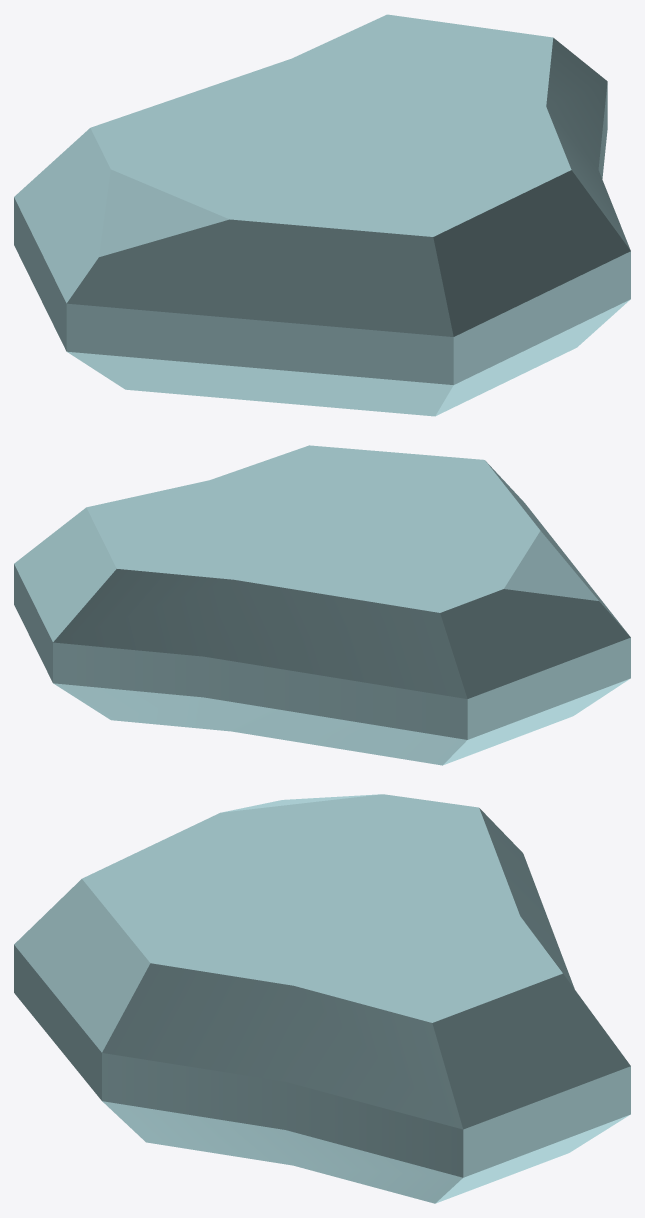
File: stone_large5.obj
3 renders of one model, top to bottom at view 1: azimuth 30°, elevation 25°; view 2: azimuth 150°, elevation 25°; view 3: azimuth 270°, elevation 25°, orthographic. The views are drawn at different scales.
Parts seen in each view (by area): view 1: stone_large5; view 2: stone_large5; view 3: stone_large5.
Part boxes in pixels (bbox=[...]): stone_large5: bbox=[14, 14, 630, 416]; stone_large5: bbox=[14, 445, 630, 765]; stone_large5: bbox=[14, 794, 630, 1203].
Bounding box in the file's own units: 10.95 × 2.92 × 9.2.
